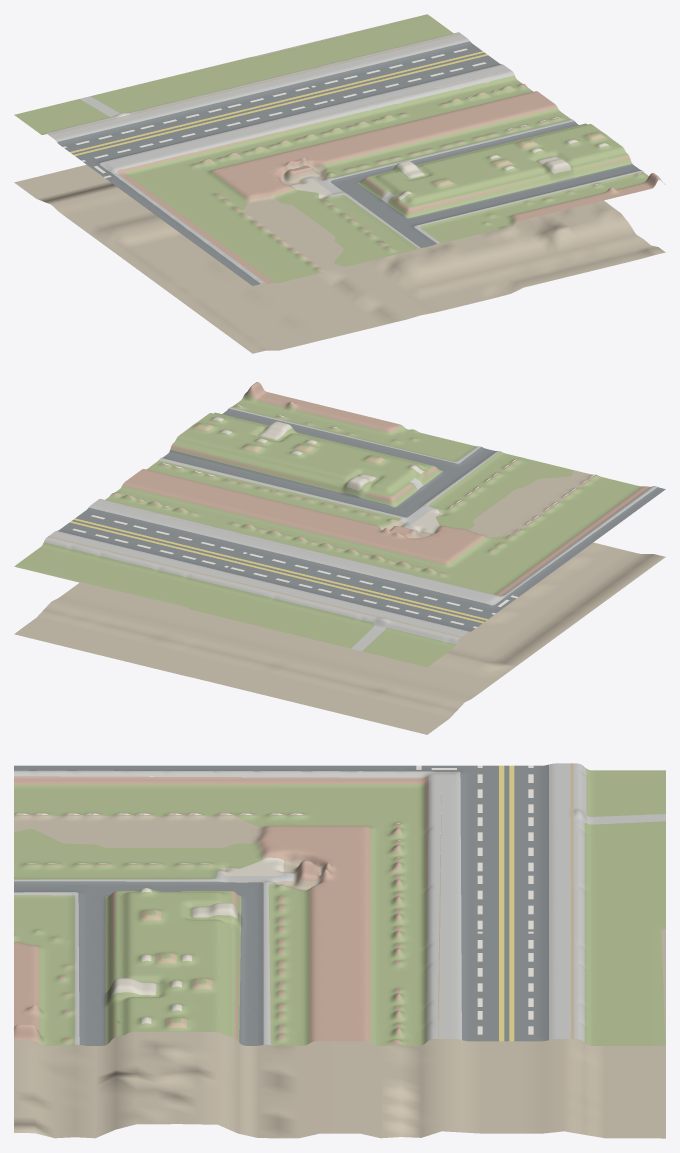
3 views of the same model, one above another, from view 1: azimuth 30°, elevation 25°; view 2: azimuth 150°, elevation 25°; view 3: azimuth 270°, elevation 25° (orthographic). The views are drawn at different scales.
Parts seen in each view (by area): view 1: s_-5_-6__grass, s_-5_-6__soil, s_-5_-6__asphalt, s_-5_-6__stone_paving, s_-5_-6__brick_paving, s_-5_-6__yellow_marking, s_-5_-6__white_marking, s_-5_-6__paving, s_-5_-6__timber_deck; view 2: s_-5_-6__grass, s_-5_-6__soil, s_-5_-6__asphalt, s_-5_-6__stone_paving, s_-5_-6__brick_paving, s_-5_-6__yellow_marking, s_-5_-6__paving, s_-5_-6__white_marking, s_-5_-6__timber_deck; view 3: s_-5_-6__grass, s_-5_-6__soil, s_-5_-6__asphalt, s_-5_-6__stone_paving, s_-5_-6__brick_paving, s_-5_-6__yellow_marking, s_-5_-6__paving, s_-5_-6__white_marking, s_-5_-6__timber_deck.
Part boxes in pixels (bbox=[...]): s_-5_-6__grass: bbox=[14, 14, 648, 283]; s_-5_-6__soil: bbox=[14, 14, 665, 353]; s_-5_-6__asphalt: bbox=[57, 41, 641, 285]; s_-5_-6__stone_paving: bbox=[45, 32, 643, 283]; s_-5_-6__brick_paving: bbox=[117, 84, 665, 283]; s_-5_-6__yellow_marking: bbox=[70, 51, 487, 155]; s_-5_-6__white_marking: bbox=[63, 48, 486, 178]; s_-5_-6__paving: bbox=[289, 139, 608, 200]; s_-5_-6__timber_deck: bbox=[48, 33, 605, 186]; s_-5_-6__grass: bbox=[14, 394, 642, 667]; s_-5_-6__soil: bbox=[14, 470, 665, 734]; s_-5_-6__asphalt: bbox=[57, 408, 665, 631]; s_-5_-6__stone_paving: bbox=[44, 407, 657, 651]; s_-5_-6__brick_paving: bbox=[112, 382, 651, 596]; s_-5_-6__yellow_marking: bbox=[70, 518, 487, 623]; s_-5_-6__paving: bbox=[212, 417, 440, 533]; s_-5_-6__white_marking: bbox=[72, 515, 518, 628]; s_-5_-6__timber_deck: bbox=[48, 423, 461, 637]; s_-5_-6__grass: bbox=[14, 768, 665, 1046]; s_-5_-6__soil: bbox=[14, 814, 665, 1138]; s_-5_-6__asphalt: bbox=[14, 764, 548, 1045]; s_-5_-6__stone_paving: bbox=[14, 763, 665, 1045]; s_-5_-6__brick_paving: bbox=[14, 776, 428, 1044]; s_-5_-6__yellow_marking: bbox=[499, 765, 514, 1041]; s_-5_-6__paving: bbox=[38, 857, 283, 1023]; s_-5_-6__white_marking: bbox=[416, 765, 533, 1034]; s_-5_-6__timber_deck: bbox=[141, 763, 574, 1038].
Size of the model in its own units: 128 by 24.59 by 128.
